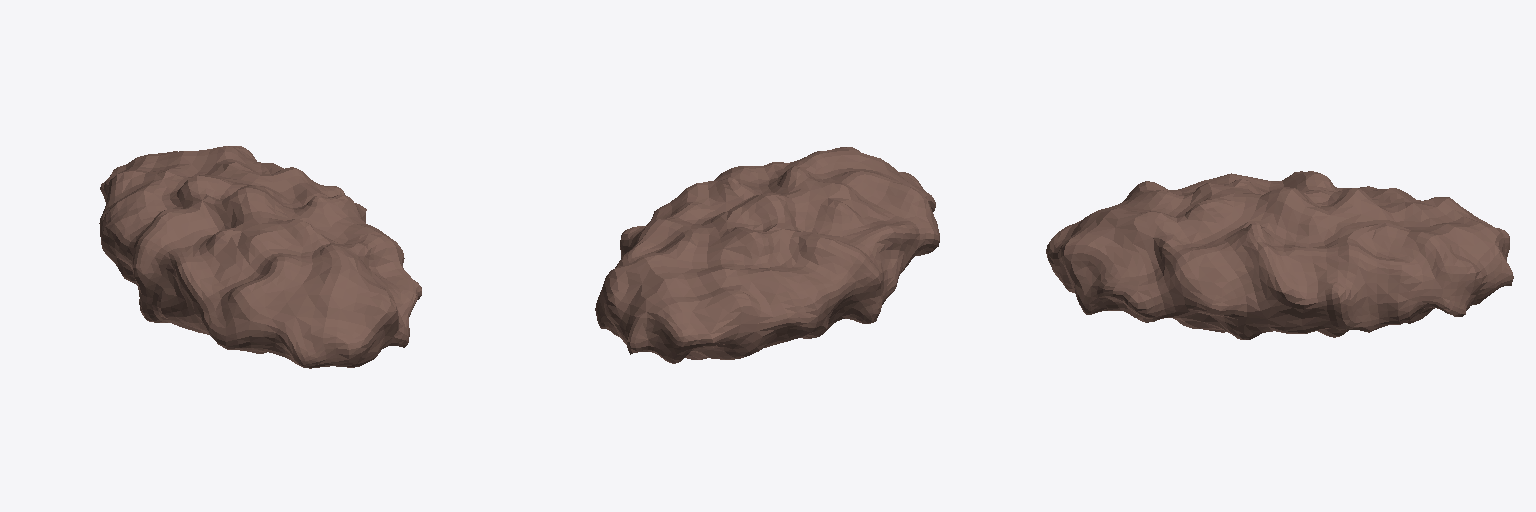
Rendered from cloud.obj.
3 renders of one model, left to right at view 1: azimuth 30°, elevation 25°; view 2: azimuth 150°, elevation 25°; view 3: azimuth 270°, elevation 25°, orthographic.
Visible parts, largest first — view 1: Cloud_3; view 2: Cloud_3; view 3: Cloud_3.
Boxes of the visible parts, box(x1,y1,x2,y2) form: Cloud_3: box(99, 146, 421, 368); Cloud_3: box(595, 147, 939, 363); Cloud_3: box(1046, 171, 1513, 339).
Bounding box in the file's own units: 119 × 63.05 × 206.